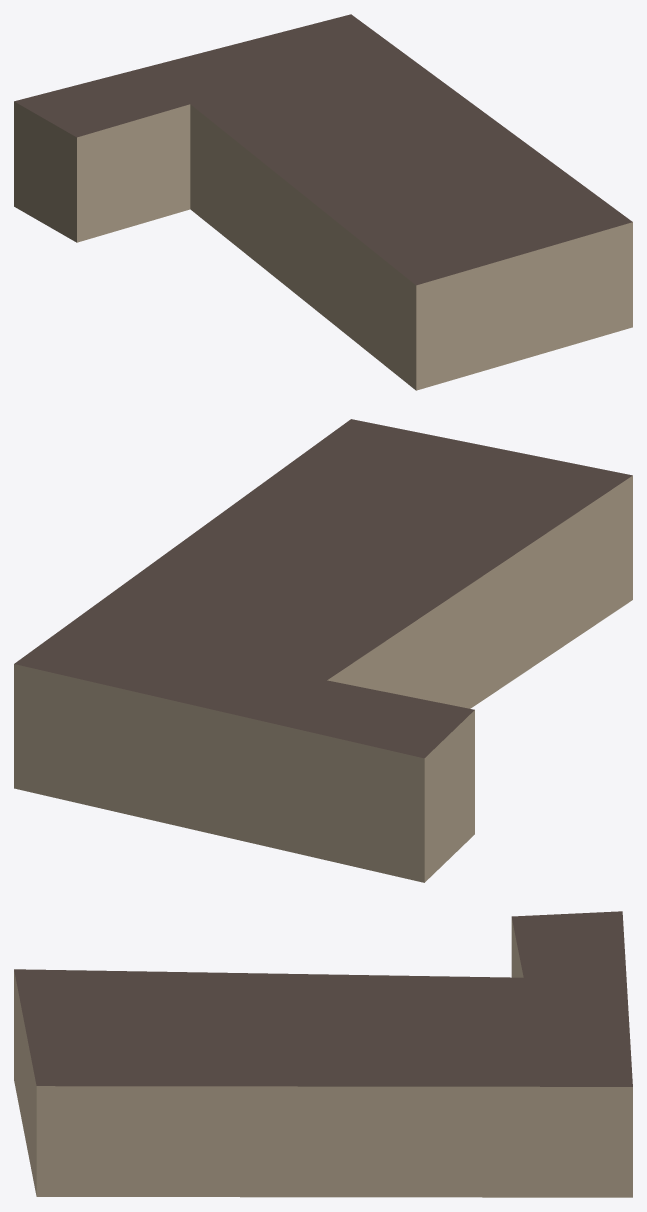
3 renders of one model, top to bottom at view 1: azimuth 30°, elevation 25°; view 2: azimuth 150°, elevation 25°; view 3: azimuth 270°, elevation 25°, orthographic. The views are drawn at different scales.
Visible parts, largest first — view 1: HP-w1512965882; view 2: HP-w1512965882; view 3: HP-w1512965882.
Boxes of the visible parts, x1,y1,x2,y2 form: HP-w1512965882: (14,14,632,390); HP-w1512965882: (14,419,632,882); HP-w1512965882: (14,911,632,1197).
Size of the model in its own units: 30.61 by 9 by 45.59.
